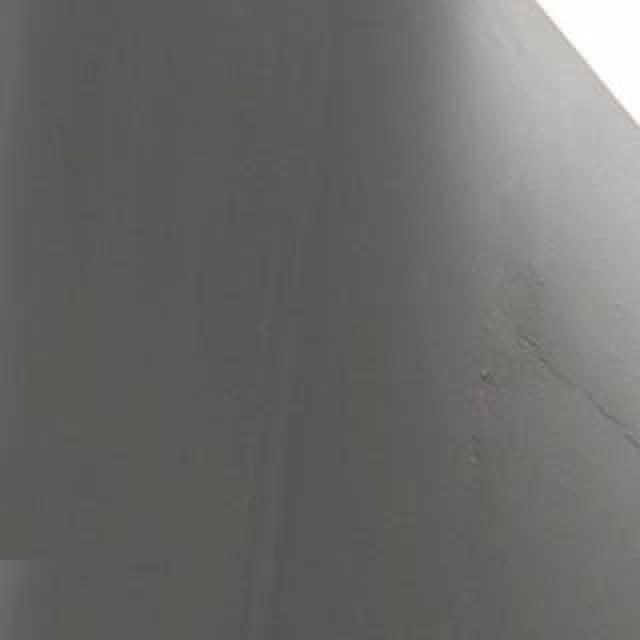fluorescent tube: (368, 0, 640, 340)
